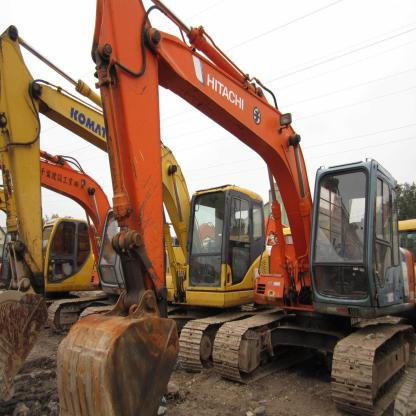excavator: (5, 3, 416, 414)
